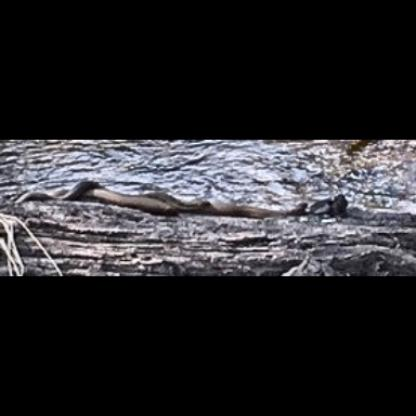Snake: (22, 171, 342, 223)
